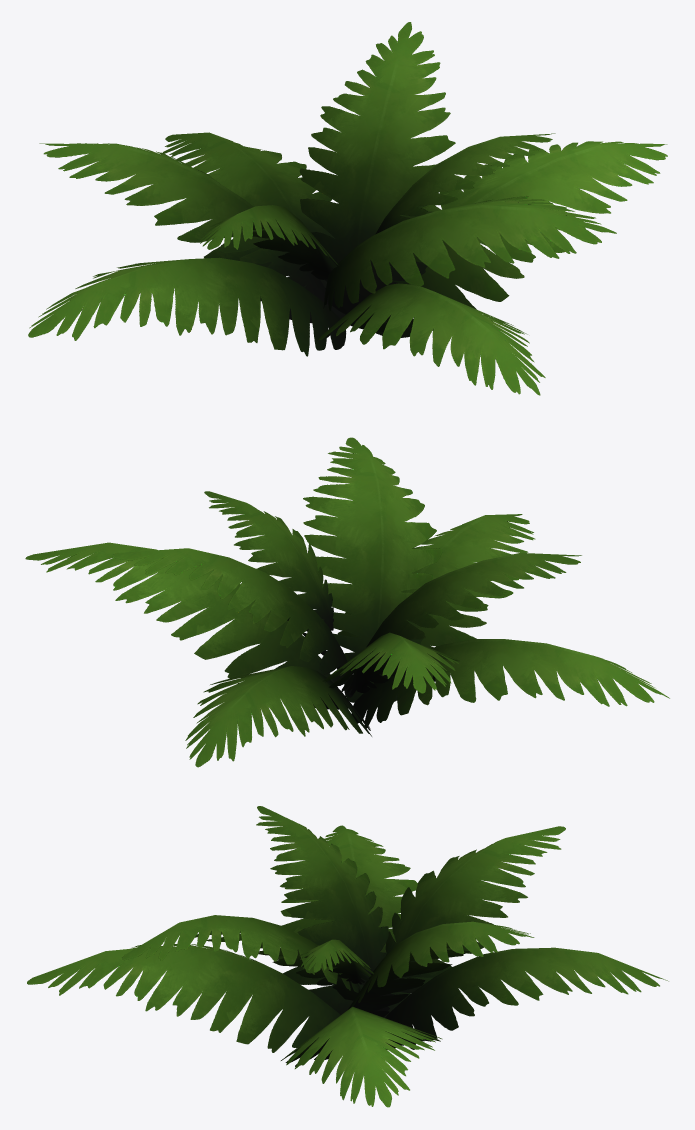
The model's file is Fern_1.gltf.
The picture shows the model from 3 angles, top to bottom: view 1: azimuth 30°, elevation 25°; view 2: azimuth 150°, elevation 25°; view 3: azimuth 270°, elevation 25°; orthographic projection. The views are drawn at different scales.
Visible parts, largest first — view 1: Fern_1; view 2: Fern_1; view 3: Fern_1.
Part boxes in pixels (box(x1,y1,x2,y2)): Fern_1: box(28, 22, 667, 395); Fern_1: box(25, 437, 669, 767); Fern_1: box(27, 806, 668, 1107).
Size of the model in its own units: 2.83 by 0.8402 by 2.65.
Materials: 1 (1 with a texture image).
